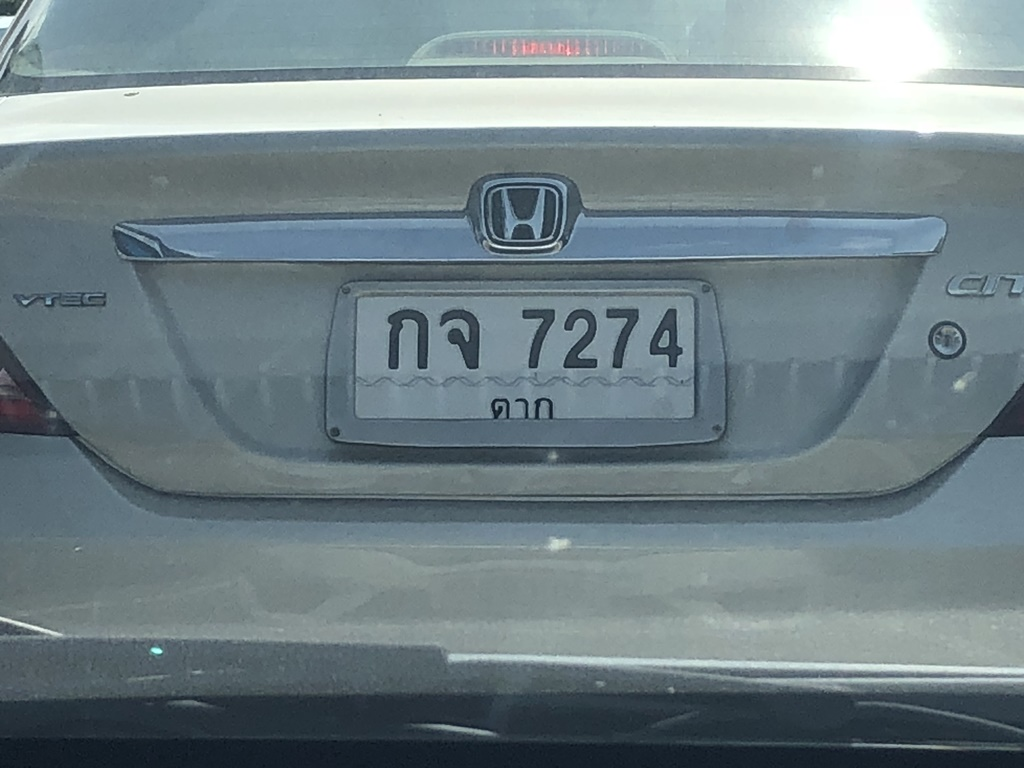four: (642, 299, 695, 374)
plate: (349, 282, 703, 431)
